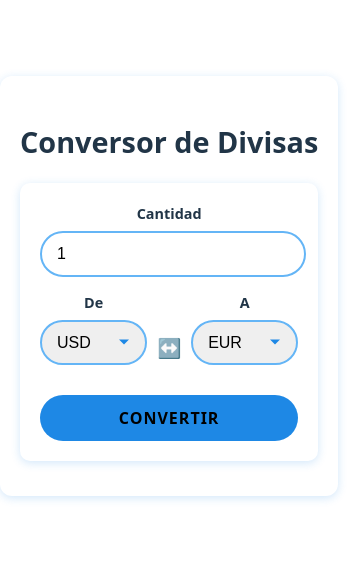
CurrencyConverter (aspectos principales funcionales) › renderiza y realiza una conversión exitosa
Cambiar cantidad
Step 1. Replace the text in the number field labelled "Cantidad" with "2" → (173, 254), box 40,231 -> 306,277
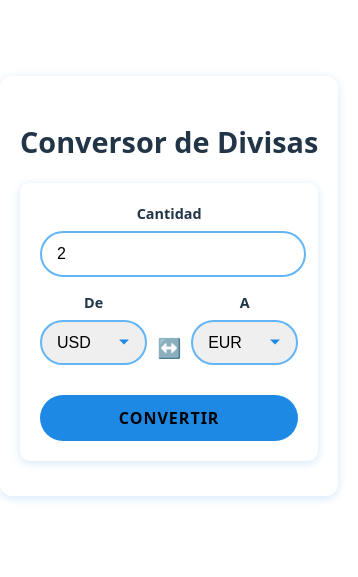
Ejecutar conversión
Step 2. Click the button → (169, 418), box 40,395 -> 298,441
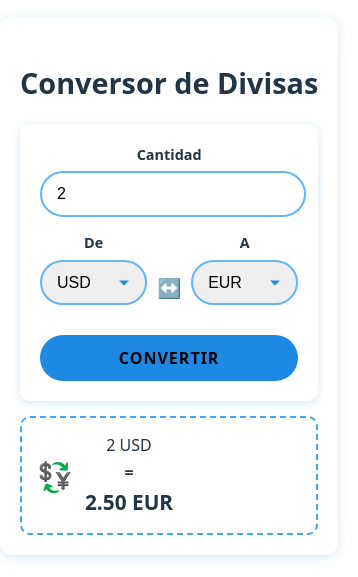
Expected: the text "2 USD" is shown, 106,434 -> 152,456
Expected: the text "2.50 EUR" is shown, 85,487 -> 173,518
